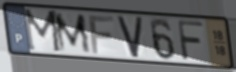6: (148, 17, 177, 62)
F: (175, 19, 205, 63), (87, 14, 116, 56)
M: (22, 8, 64, 55), (53, 12, 94, 54)
V: (115, 14, 145, 59)
